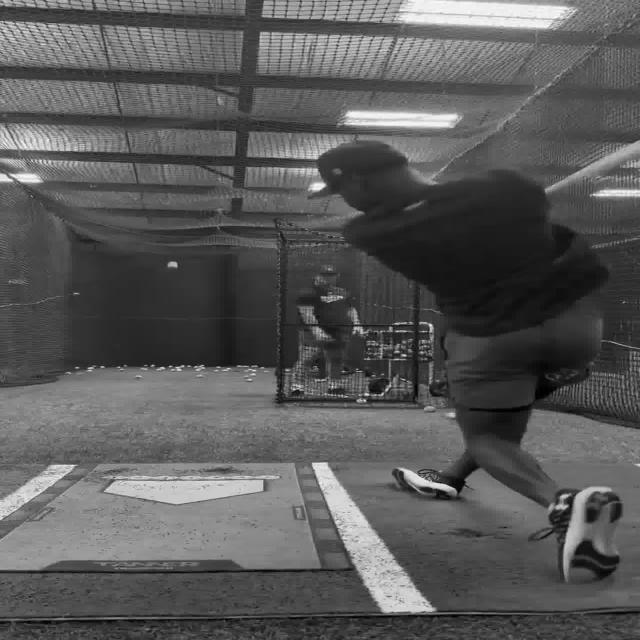baseball: (442, 411, 456, 419), (162, 262, 176, 269), (422, 406, 436, 412), (356, 398, 366, 403)
shoe: (547, 486, 623, 583), (391, 466, 465, 499), (367, 377, 389, 395), (326, 380, 345, 394), (288, 384, 304, 397)
